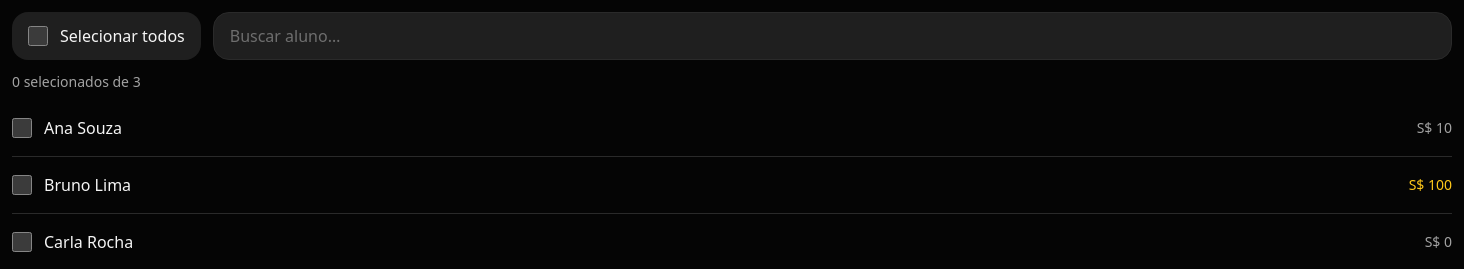
<SeletorAlunos> › seleciona todos e desmarca todos
The image size is (1464, 269).
Later steps or results of the test are not shown.
Click the checkbox labelled "Selecionar todos" at (38, 36), box [28,26,48,46]
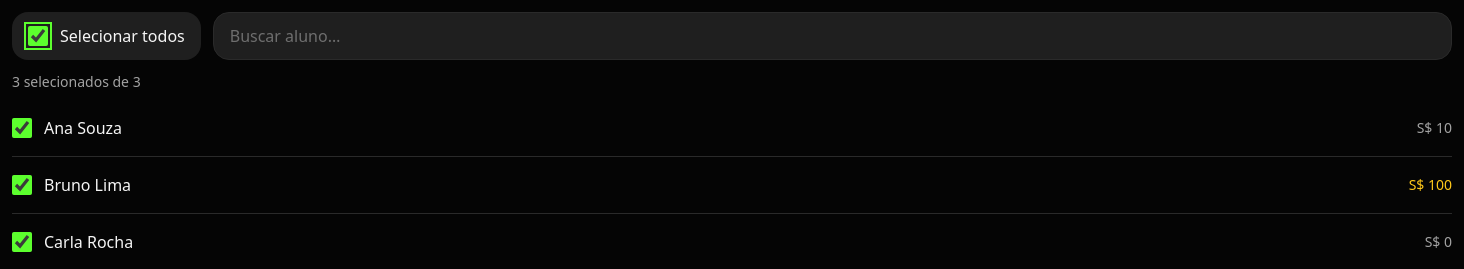
Expected: the number of checkboxes is 4, [28,26,48,46]; [12,118,32,138]; [12,175,32,195]; [12,232,32,252]
Expected: the text "3 selecionados de 3" is shown, [12,72,141,91]
